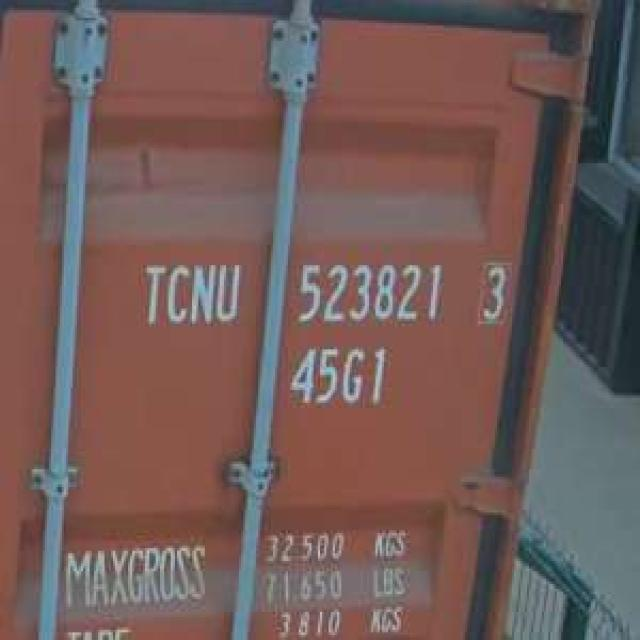dv: (471, 254, 518, 328)
owner: (131, 256, 246, 335)
serial: (288, 256, 454, 331)
size: (278, 340, 397, 413)
